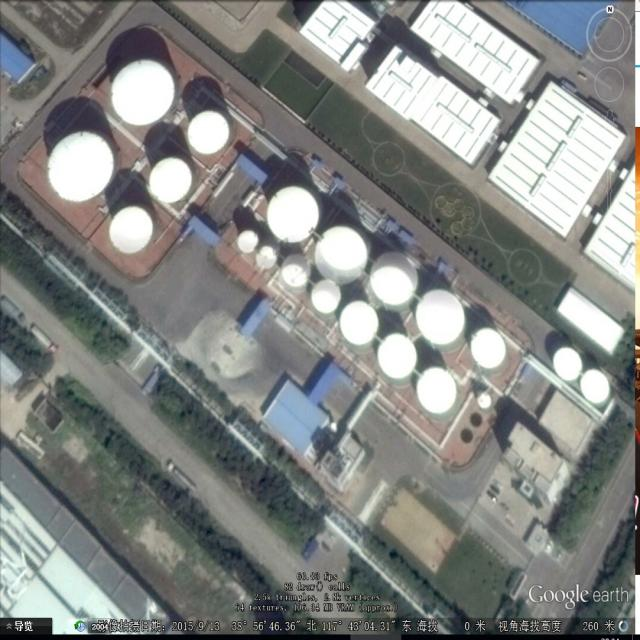oiltank: (43, 126, 118, 207), (109, 56, 177, 129), (312, 223, 371, 293), (265, 182, 323, 249), (414, 287, 470, 351), (369, 247, 421, 312), (108, 205, 158, 263), (416, 364, 460, 425), (337, 299, 382, 356), (147, 154, 195, 206), (375, 332, 418, 390), (184, 106, 231, 158), (471, 328, 512, 382), (279, 249, 316, 295), (309, 278, 344, 321), (580, 366, 613, 409), (551, 345, 584, 382), (256, 245, 284, 278), (236, 229, 263, 258)
